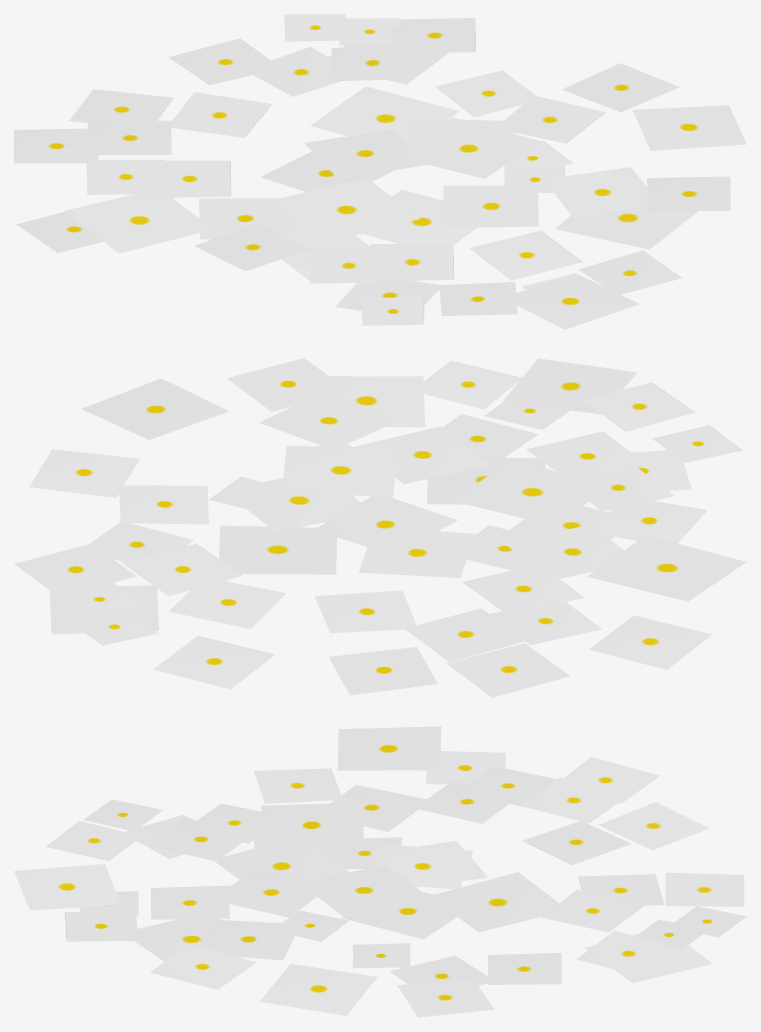
The model's file is Plant_03.glb.
3 renders of one model, top to bottom at view 1: azimuth 30°, elevation 25°; view 2: azimuth 150°, elevation 25°; view 3: azimuth 270°, elevation 25°, orthographic. The views are drawn at different scales.
Visible parts, largest first — view 1: Plant_03_LOD0; view 2: Plant_03_LOD0; view 3: Plant_03_LOD0.
Part boxes in pixels (<box>): Plant_03_LOD0: <box>14,14,746,329</box>; Plant_03_LOD0: <box>14,358,746,697</box>; Plant_03_LOD0: <box>14,726,746,1017</box>.
Size of what is drawn, in the model's own units: 0.6995 by 0.0416 by 0.749.
Materials: 1 (1 with a texture image).
